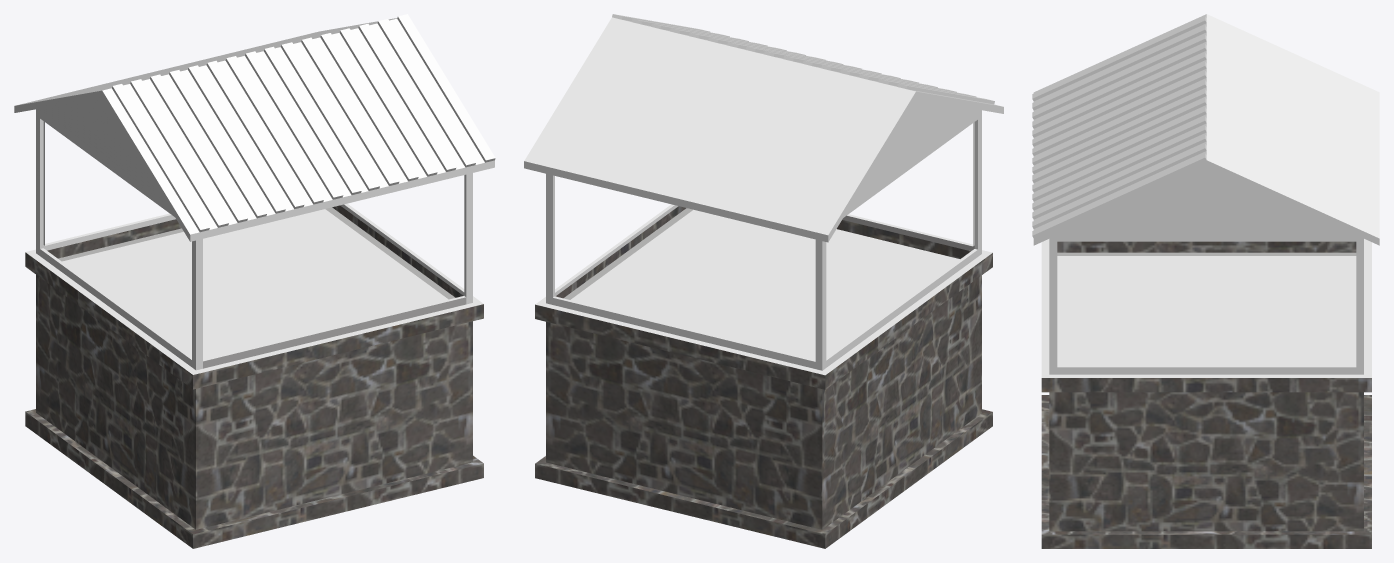
File: mercadoitled1.fbx
3 renders of one model, left to right at view 1: azimuth 30°, elevation 25°; view 2: azimuth 150°, elevation 25°; view 3: azimuth 270°, elevation 25°, orthographic.
Visible parts, largest first — view 1: building_001; view 2: building_001; view 3: building_001.
Part boxes in pixels (x1,y1,x2,y2): building_001: [14, 14, 495, 548]; building_001: [524, 14, 1003, 548]; building_001: [1032, 14, 1379, 548].
Size of the model in its own units: 440 by 554 by 442.
